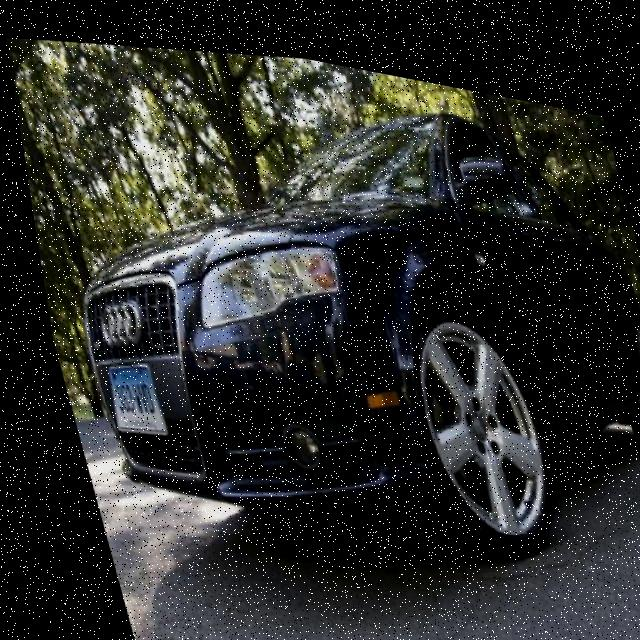license_plate: (86, 352, 157, 438)
